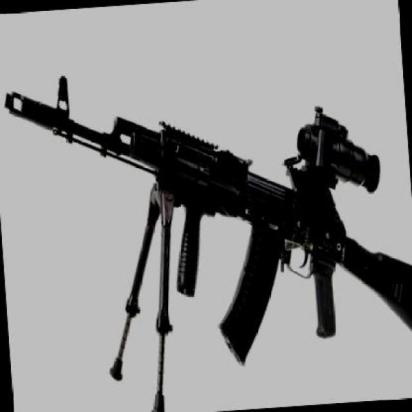Gun: (0, 33, 412, 380)
